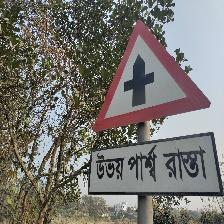Crossroad: (86, 14, 224, 202)
